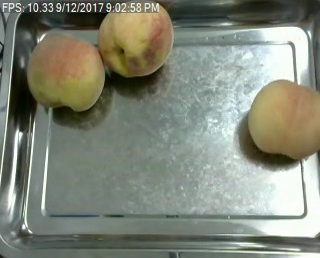Peach: (27, 28, 104, 111), (247, 78, 319, 160), (98, 0, 174, 77)
